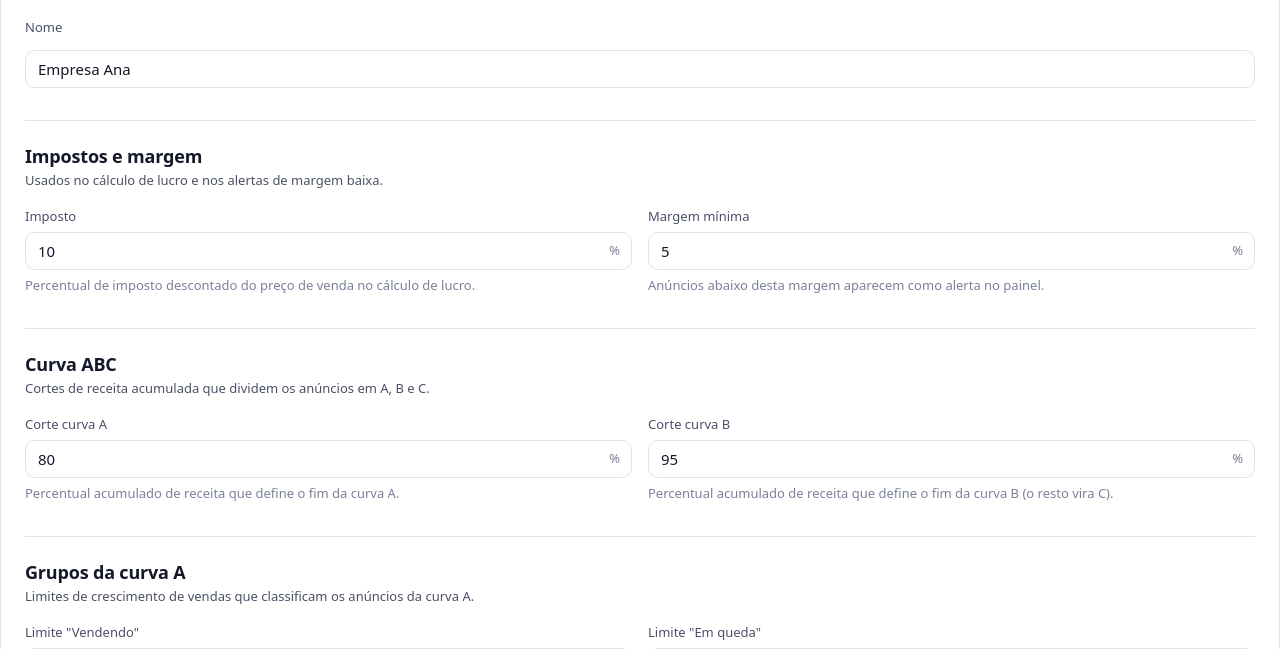
Test: EmpresaTab › o botão Salvar começa desabilitado (sem alterações) e habilita ao editar um campo
This screenshot has width=1280, height=649.
Replace the text in the field with id "tax-pct" with "12" at (328, 251), box top-left (25, 232), bottom-right (632, 270)
(page scrolled)
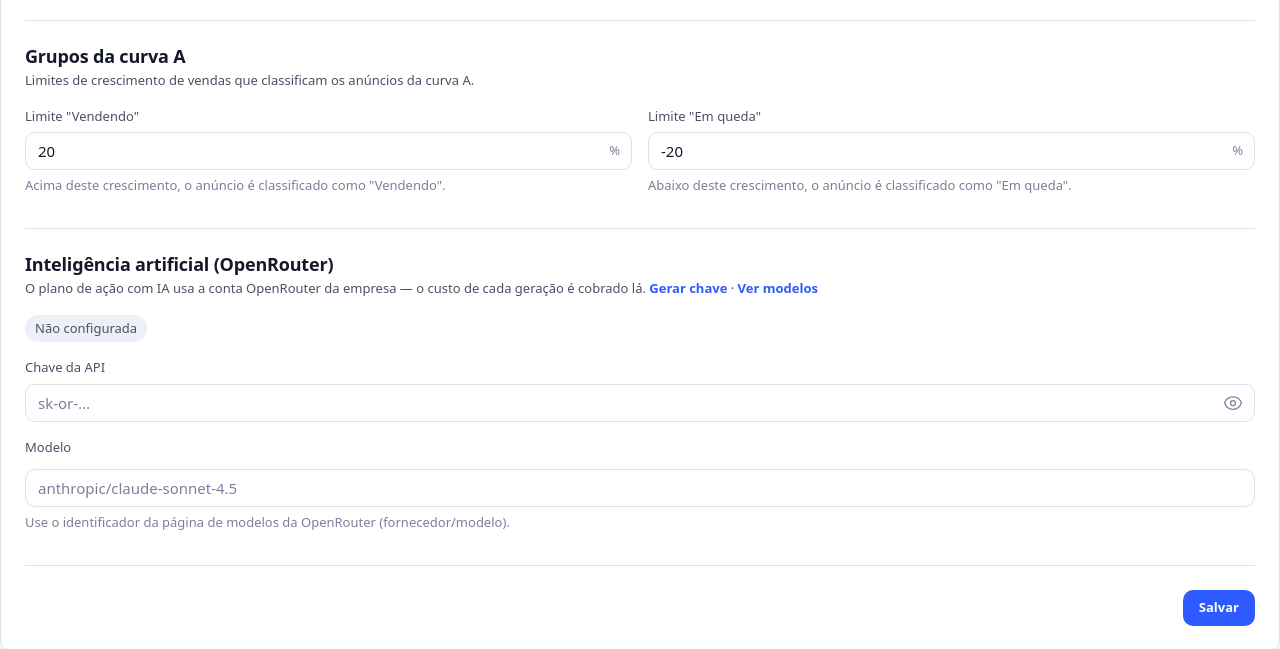
Result: the button with test id "salvar-empresa" is enabled at top-left (1183, 590), bottom-right (1255, 626)
